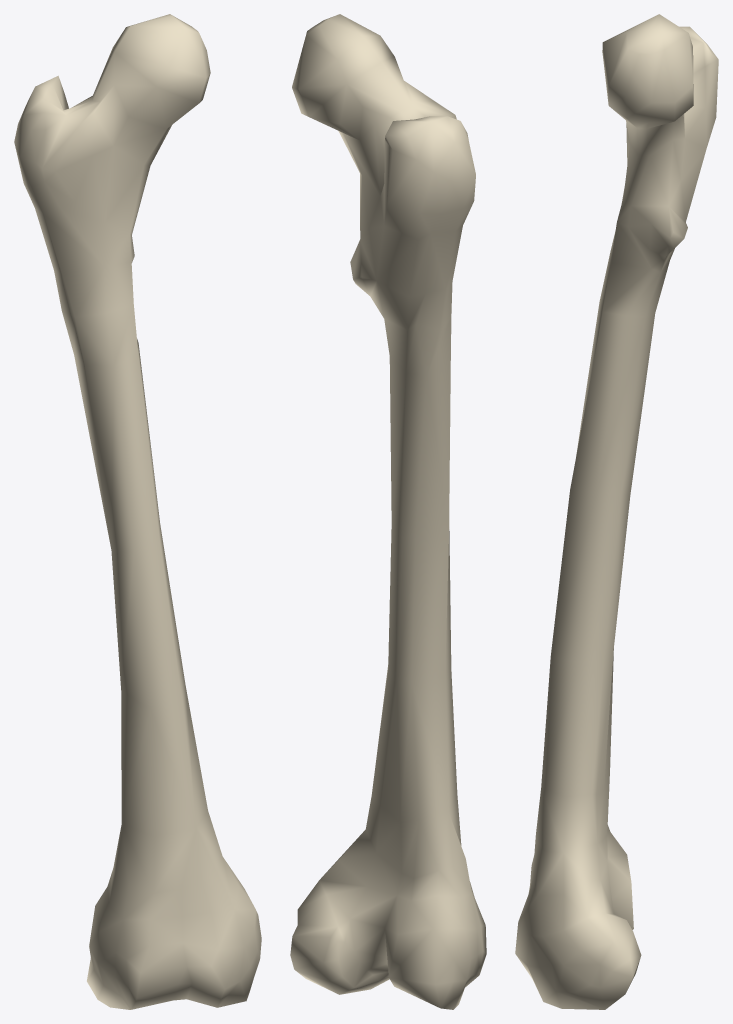
Rendered from bone1.fbx.
3 renders of one model, left to right at view 1: azimuth 30°, elevation 25°; view 2: azimuth 150°, elevation 25°; view 3: azimuth 270°, elevation 25°, orthographic. The views are drawn at different scales.
Visible parts, largest first — view 1: convexhull; view 2: convexhull; view 3: convexhull.
Boxes of the visible parts, left/top/right/bottom form: convexhull: left=14, top=14, right=261, bottom=1009; convexhull: left=290, top=14, right=486, bottom=1009; convexhull: left=515, top=14, right=718, bottom=1009.
Bounding box in the file's own units: 4.41 × 20.24 × 3.85.
